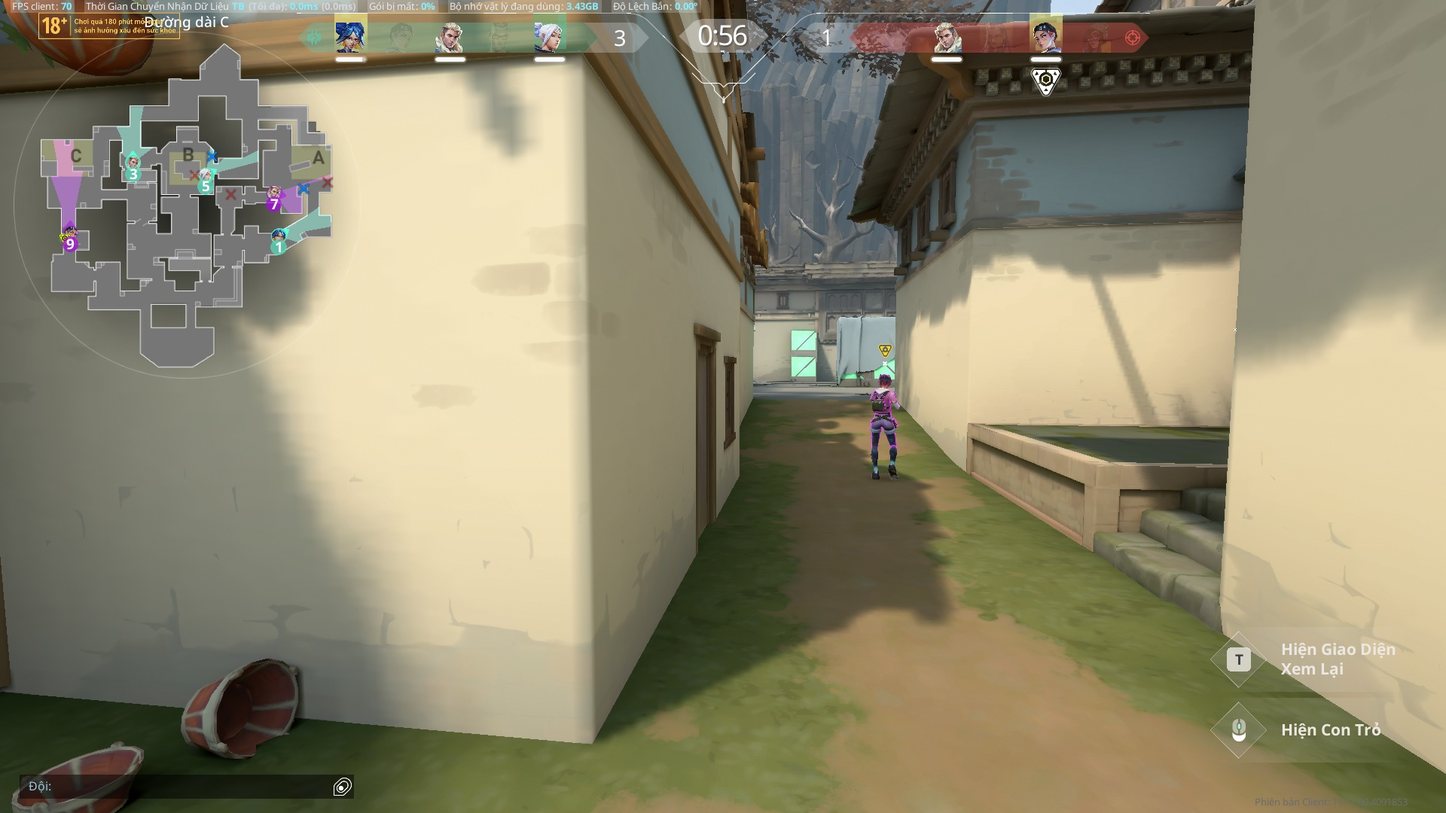body: (871, 388, 895, 412)
head: (879, 374, 892, 388)
